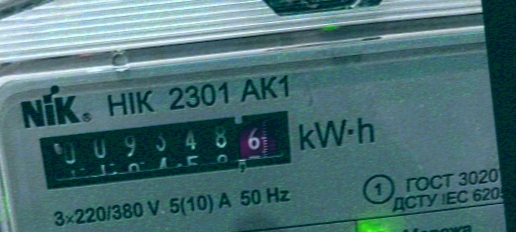0: (61, 139, 77, 166), (91, 135, 108, 160)
3: (151, 128, 168, 155)
4: (181, 125, 198, 153)
6: (243, 124, 263, 153)
8: (211, 122, 229, 152)
9: (120, 132, 138, 160)
screen: (29, 102, 304, 200)
